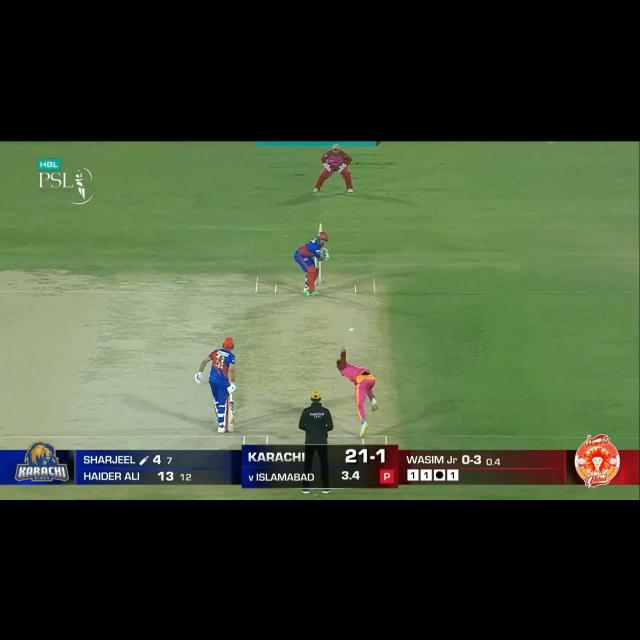bat: (226, 401, 236, 433), (317, 222, 324, 238)
toe: (226, 426, 237, 432), (317, 223, 323, 228)
